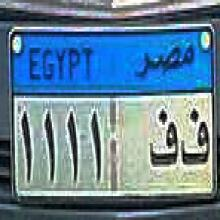1: (40, 109, 59, 187), (65, 108, 82, 188), (90, 109, 106, 181), (20, 107, 35, 182)
faa: (180, 103, 211, 174), (147, 105, 178, 175)
